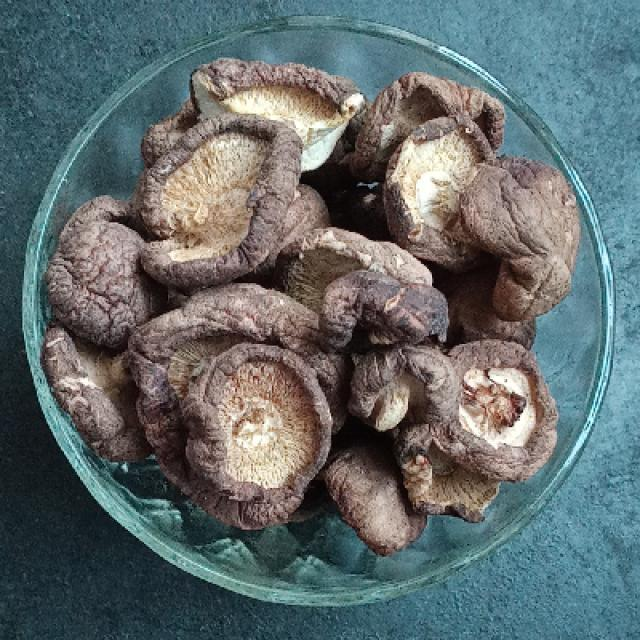Lentinus edodes: (137, 111, 302, 287), (197, 339, 334, 528), (188, 59, 367, 169), (435, 338, 562, 485), (462, 161, 579, 320), (387, 113, 495, 264), (48, 191, 146, 347), (38, 325, 135, 463)
